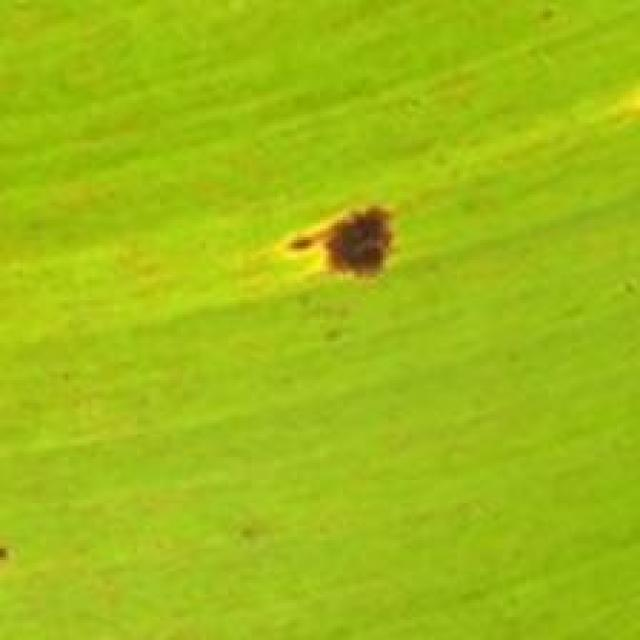Bacterial_spot: (251, 166, 430, 330)
